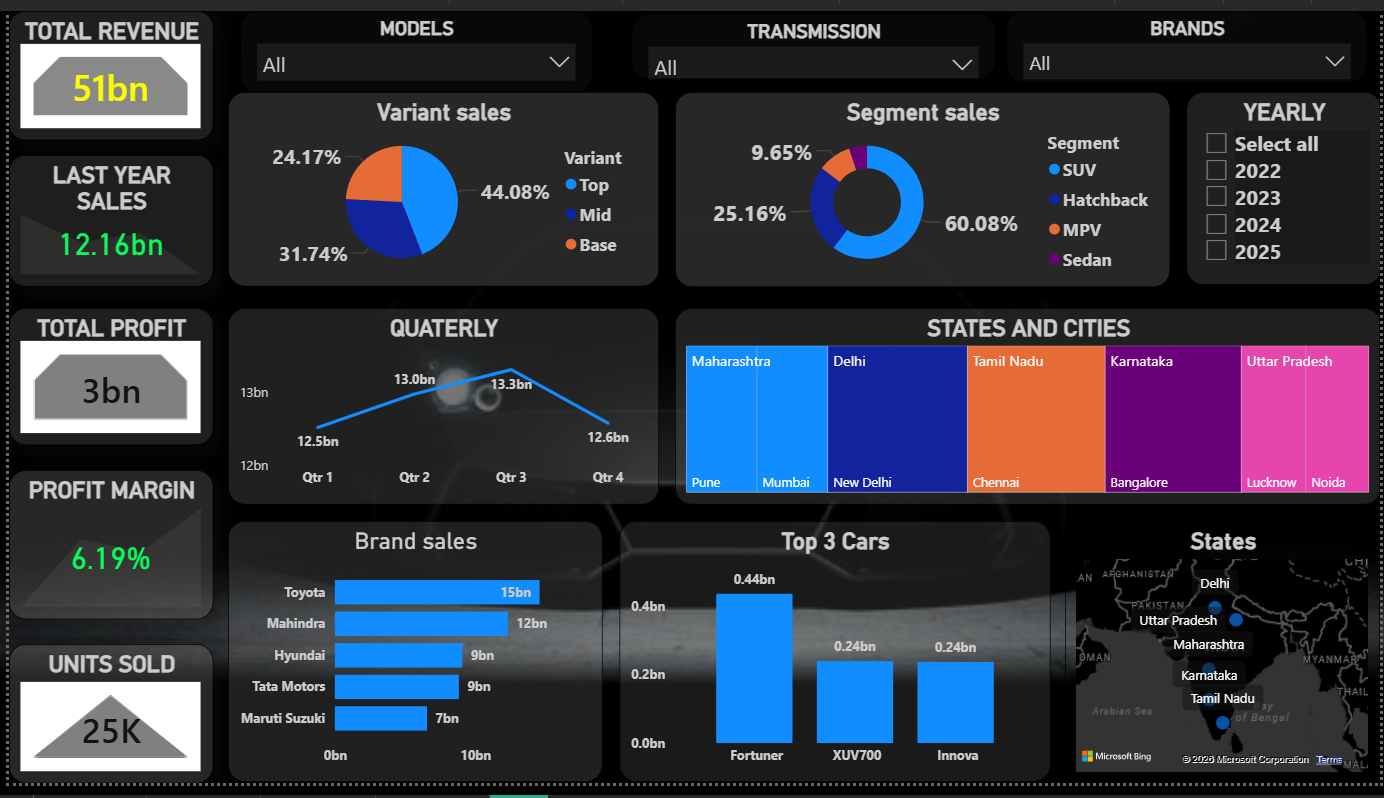

The dashboard page shown, as its layout file describes it:
{"tool":"powerbi","page":{"name":"Page 1","canvas":[1280,720],"ordinal":0},"visuals":[{"type":"cardVisual","title":"TOTAL REVENUE","fields":{"Data":["India Car Sales Professional.TOTAL REVENUE"]},"box":[0,0,190.9,120.9],"z":0},{"type":"kpi","title":"LAST YEAR SALES","fields":{"Indicator":["Sum(India Car Sales Professional.Total Price )"],"TrendLine":["India Car Sales Professional.Year"]},"box":[0,134,190.6,122.6],"z":1000},{"type":"cardVisual","title":"TOTAL PROFIT","fields":{"Data":["Sum(India Car Sales Professional.Total Profit)"]},"box":[0,277.4,190.6,128.3],"z":2000},{"type":"cardVisual","title":"UNITS SOLD","fields":{"Data":["Sum(India Car Sales Professional.Units_Sold)"]},"box":[0,590.6,190.6,130.2],"z":3000},{"type":"kpi","title":"PROFIT MARGIN","fields":{"Indicator":["India Car Sales Professional.Profit Margin %"],"TrendLine":["India Car Sales Professional.Year"]},"box":[0,428.3,190.6,139.6],"z":4000},{"type":"barChart","title":"Brand sales","fields":{"Category":["India Car Sales Professional.Brand"],"Y":["Sum(India Car Sales Professional.Total Price )"]},"box":[203.8,475.5,349.1,243.4],"z":5000},{"type":"columnChart","title":"Top 3 Cars","fields":{"Category":["India Car Sales Professional.Model"],"Y":["Sum(India Car Sales Professional.Total Profit)"]},"box":[569.8,475.5,401.9,243.4],"z":6000},{"type":"pieChart","title":"Variant sales","fields":{"Category":["India Car Sales Professional.Variant"],"Y":["Sum(India Car Sales Professional.Total Profit)"]},"box":[203.8,75.5,401.9,181.1],"z":7000},{"type":"donutChart","title":"Segment sales","fields":{"Category":["India Car Sales Professional.Segment"],"Y":["Sum(India Car Sales Professional.Units_Sold)"]},"box":[620.8,75.7,461.8,181.7],"z":8000},{"type":"map","title":"States","fields":{"Category":["India Car Sales Professional.State"]},"box":[984.9,475.5,294.3,245.3],"z":9000},{"type":"lineChart","title":"QUATERLY","fields":{"Y":["Sum(India Car Sales Professional.Total Price )"],"Category":["India Car Sales Professional.Date.Variation.Date Hierarchy.Quarter"]},"box":[203.8,277.4,401.9,183],"z":10000},{"type":"treemap","title":"STATES AND CITIES","fields":{"Group":["India Car Sales Professional.State"],"Details":["India Car Sales Professional.City"],"Values":["Sum(India Car Sales Professional.Total Price )"]},"box":[620.8,277.4,658.5,183],"z":11000},{"type":"slicer","title":"YEARLY","fields":{"Values":["India Car Sales Professional.Year"]},"box":[1097.8,75.7,181.7,180.2],"z":12000},{"type":"slicer","title":"MODELS","fields":{"Values":["India Car Sales Professional.Model"]},"box":[215,0,328.6,75.7],"z":13000},{"type":"slicer","title":"TRANSMISSION","fields":{"Values":["India Car Sales Professional.Transmission"]},"box":[579.9,3,339.2,60.6],"z":14000},{"type":"slicer","title":"BRANDS","fields":{"Values":["India Car Sales Professional.Brand"]},"box":[929.7,0,336.2,66.6],"z":15000}]}

Visuals, with their boxes in screenshot pixels (x1, y1, x2, y2), scaled from the page's 1280x720 canvas onto the 1384x798 screenshot:
"TOTAL REVENUE" cardVisual: bbox=(0, 0, 206, 134)
"LAST YEAR SALES" kpi: bbox=(0, 149, 206, 284)
"TOTAL PROFIT" cardVisual: bbox=(0, 307, 206, 450)
"UNITS SOLD" cardVisual: bbox=(0, 655, 206, 797)
"PROFIT MARGIN" kpi: bbox=(0, 475, 206, 629)
"Brand sales" barChart: bbox=(220, 527, 598, 797)
"Top 3 Cars" columnChart: bbox=(616, 527, 1051, 797)
"Variant sales" pieChart: bbox=(220, 84, 655, 284)
"Segment sales" donutChart: bbox=(671, 84, 1171, 285)
"States" map: bbox=(1065, 527, 1383, 797)
"QUATERLY" lineChart: bbox=(220, 307, 655, 510)
"STATES AND CITIES" treemap: bbox=(671, 307, 1383, 510)
"YEARLY" slicer: bbox=(1187, 84, 1383, 284)
"MODELS" slicer: bbox=(232, 0, 588, 84)
"TRANSMISSION" slicer: bbox=(627, 3, 994, 70)
"BRANDS" slicer: bbox=(1005, 0, 1369, 74)
